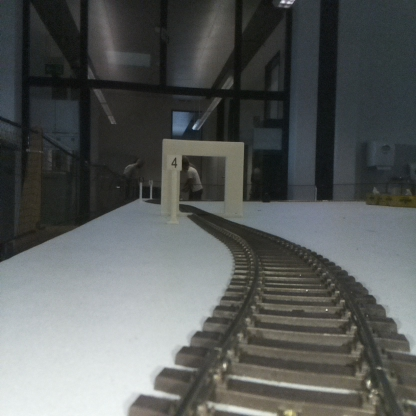white-info-4: (167, 154, 181, 223)
